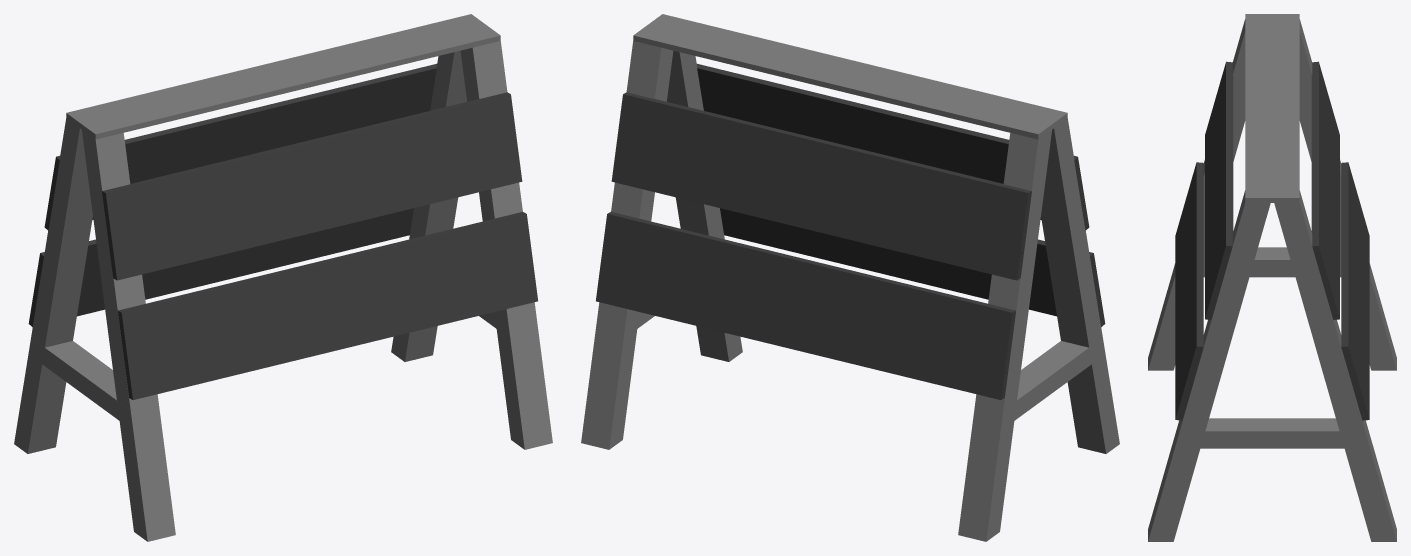
Rendered from Barricade.fbx.
3 renders of one model, left to right at view 1: azimuth 30°, elevation 25°; view 2: azimuth 150°, elevation 25°; view 3: azimuth 270°, elevation 25°, orthographic. The views are drawn at different scales.
Parts seen in each view (by area): view 1: polySurface75; view 2: polySurface75; view 3: polySurface75.
Boxes of the visible parts, x1,y1,x2,y2 form: polySurface75: (14, 14, 552, 541); polySurface75: (581, 14, 1119, 541); polySurface75: (1148, 14, 1396, 541).
Bounding box in the file's own units: 0.8694 × 0.7574 × 0.4968.
